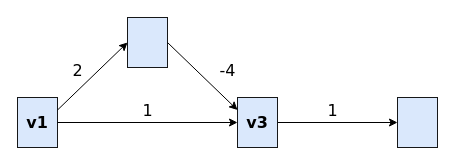
This 455x165 diagram has some shape labels left out. Each missing label, with the centre of its shape:
"v2" belongs at [147,42].
"v4" belongs at [417,122].
